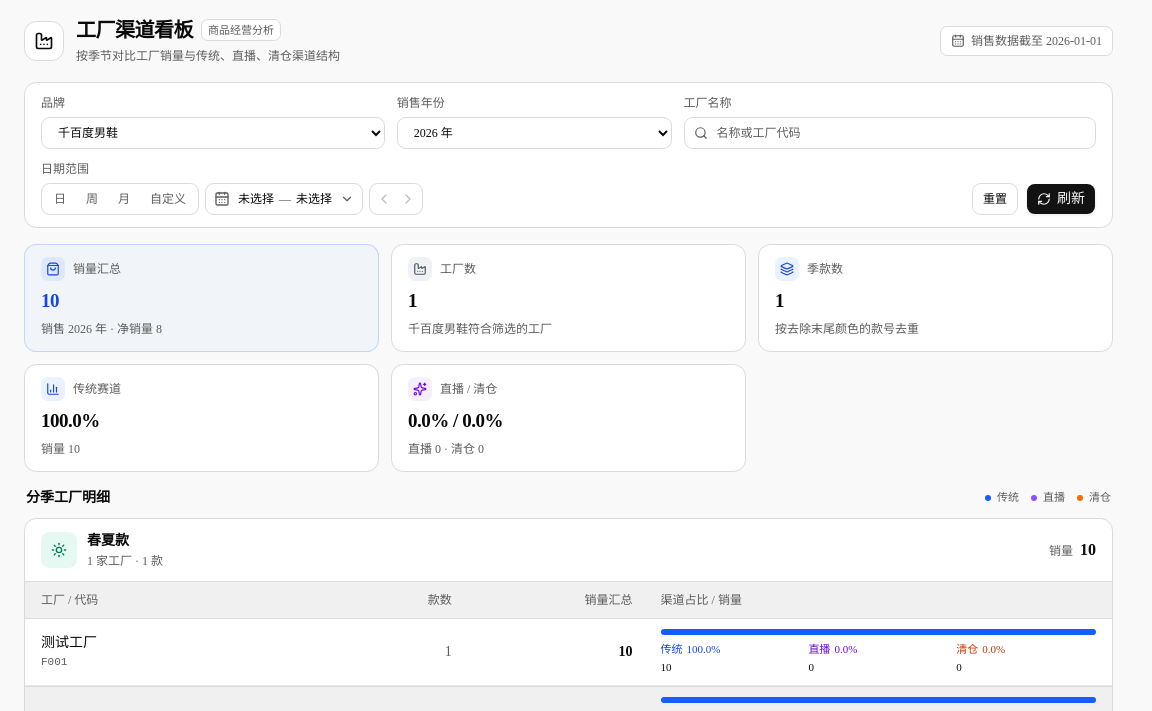
Test: cancels superseded queries and ignores a late success
This screenshot has width=1152, height=711.
expect the button "刷新" is enabled: met, box [1026,183,1096,215]
Select "2025 年" in the dropdown labelled "销售年份" at (534,133), box [397,117,672,149]
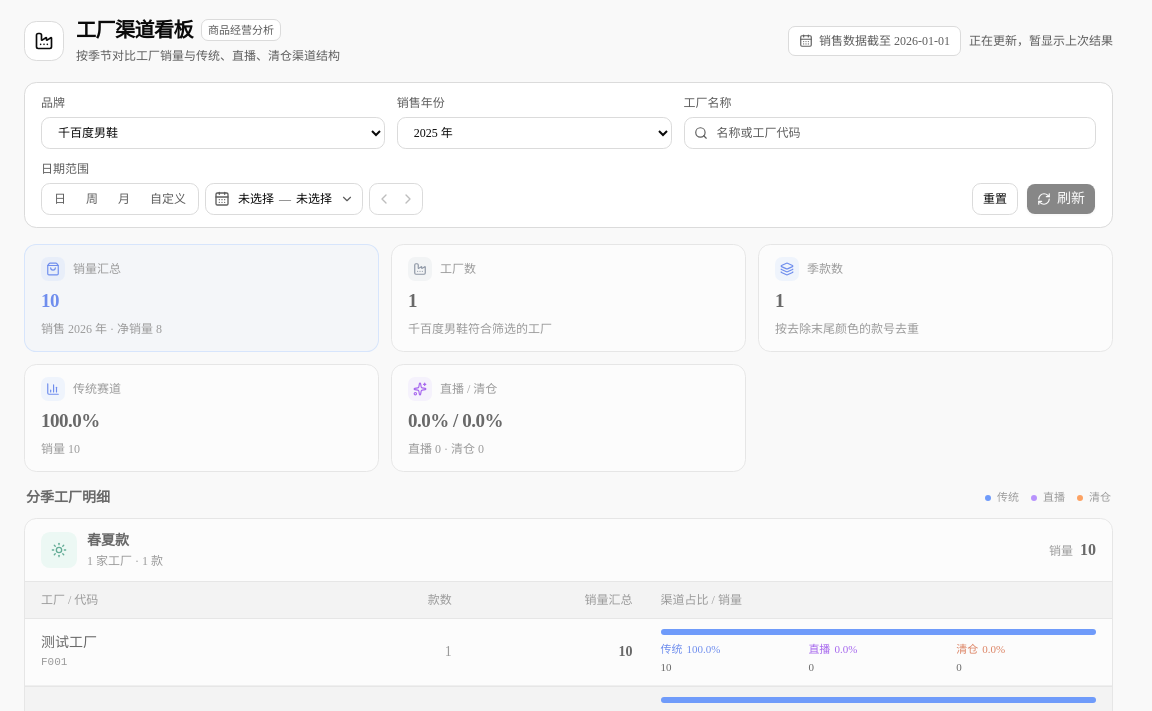
Select "2024 年" in the dropdown labelled "销售年份" at (534,133), box [397,117,672,149]
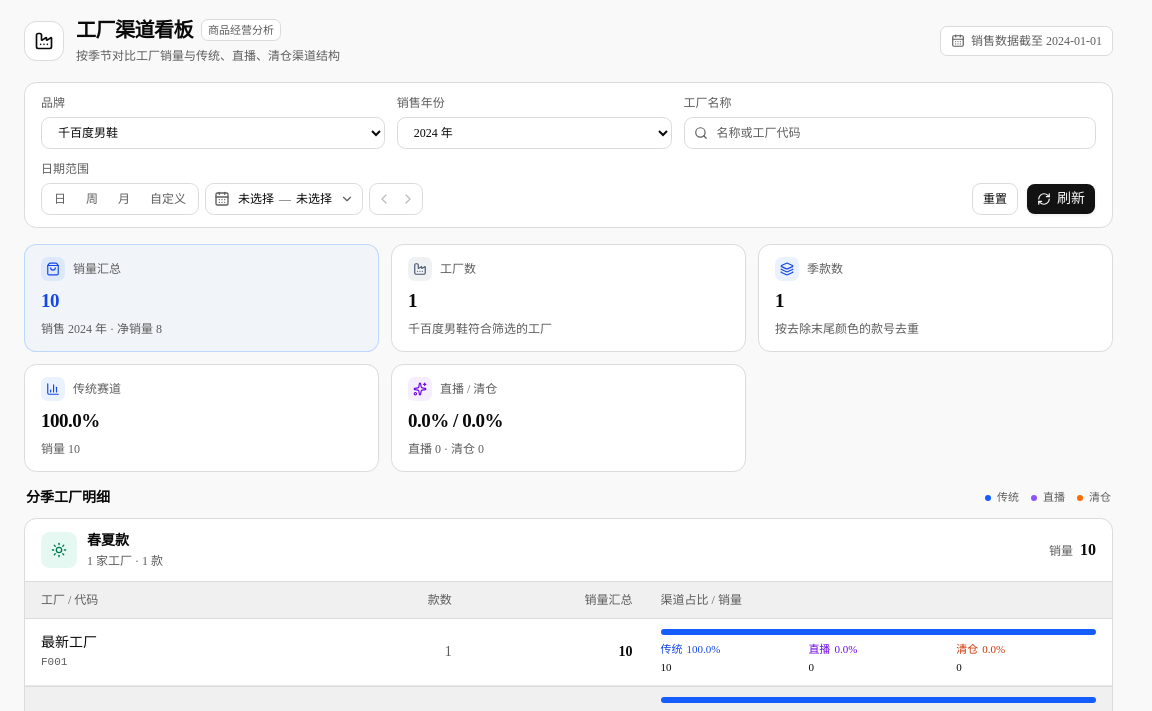
expect the text "最新工厂" is shown: met, box [41,635,97,650]
